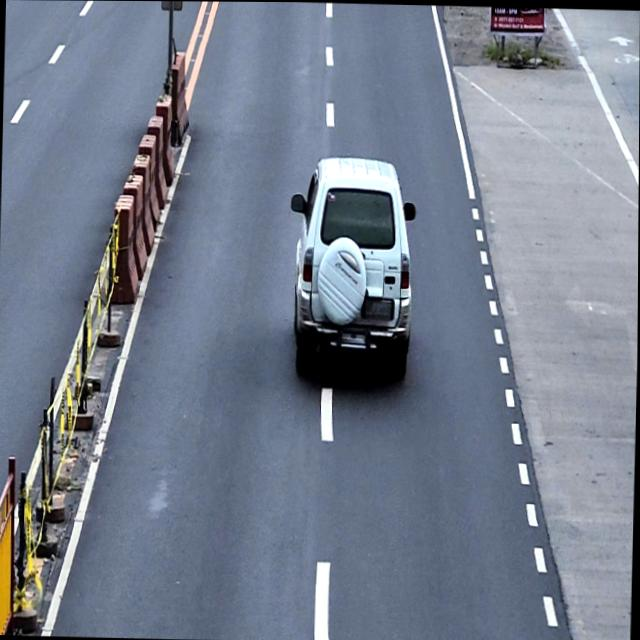Car: (286, 153, 417, 378)
License-Plate: (364, 298, 393, 321)
